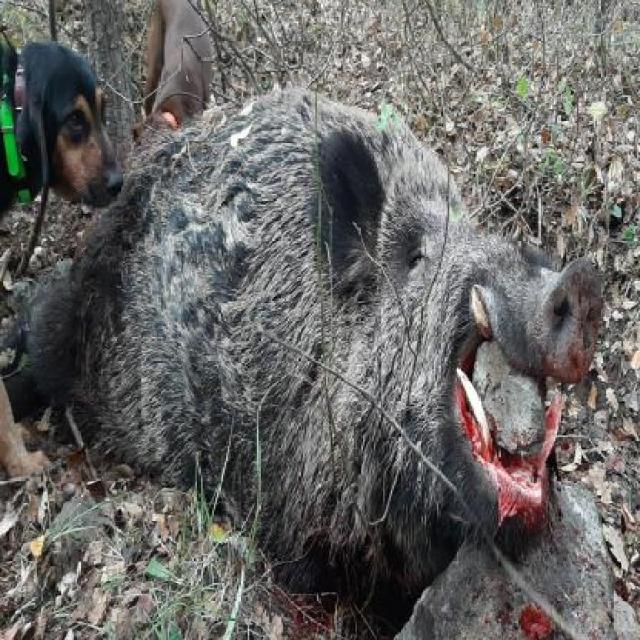wildboar: (0, 82, 611, 606)
